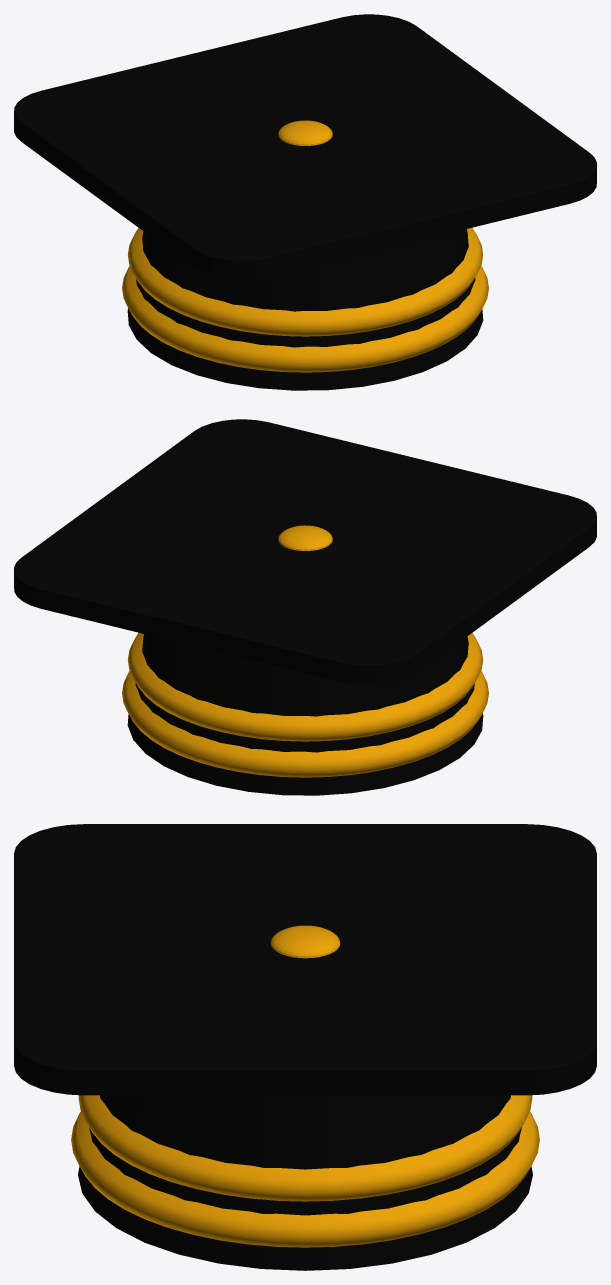
File: graduateCap.gltf
3 renders of one model, top to bottom at view 1: azimuth 30°, elevation 25°; view 2: azimuth 150°, elevation 25°; view 3: azimuth 270°, elevation 25°, orthographic. The views are drawn at different scales.
Visible parts, largest first — view 1: Cube.007, Torus.001, Sphere; view 2: Cube.007, Torus.001, Sphere; view 3: Cube.007, Torus.001, Sphere.
Boxes of the visible parts, x1,y1,x2,y2 form: Cube.007: (14, 14, 596, 280); Torus.001: (122, 227, 488, 390); Sphere: (278, 120, 332, 145); Cube.007: (14, 419, 596, 685); Torus.001: (122, 632, 488, 795); Sphere: (278, 525, 332, 550); Cube.007: (14, 824, 596, 1095); Torus.001: (71, 1095, 539, 1270); Sphere: (270, 925, 340, 958).
Bounding box in the file's own units: 0.5855 × 0.2677 × 0.5855.
